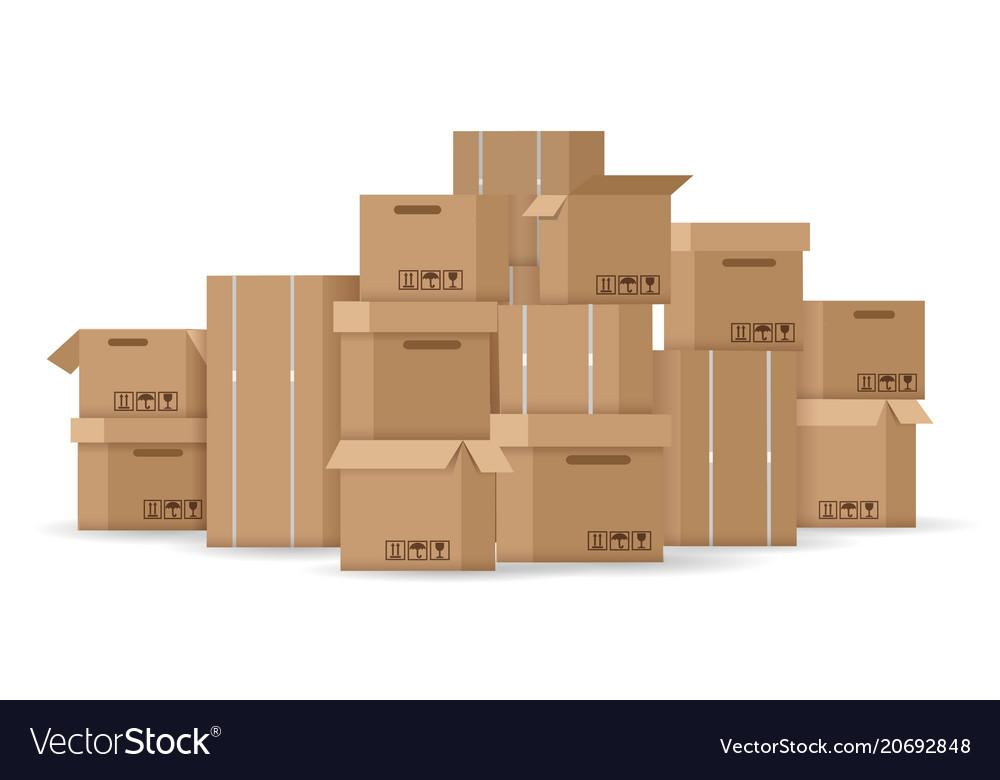Box: (207, 275, 359, 547), (654, 350, 797, 546), (490, 414, 672, 562), (326, 439, 512, 570), (334, 301, 498, 439), (523, 176, 688, 305), (453, 131, 604, 266), (664, 223, 809, 351), (797, 398, 930, 527), (498, 305, 652, 414), (359, 195, 510, 301), (70, 418, 207, 529), (49, 330, 207, 418), (797, 301, 924, 398)
